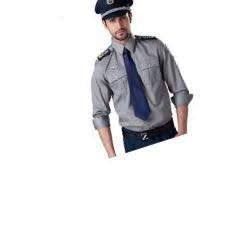uniform: (83, 37, 196, 148)
